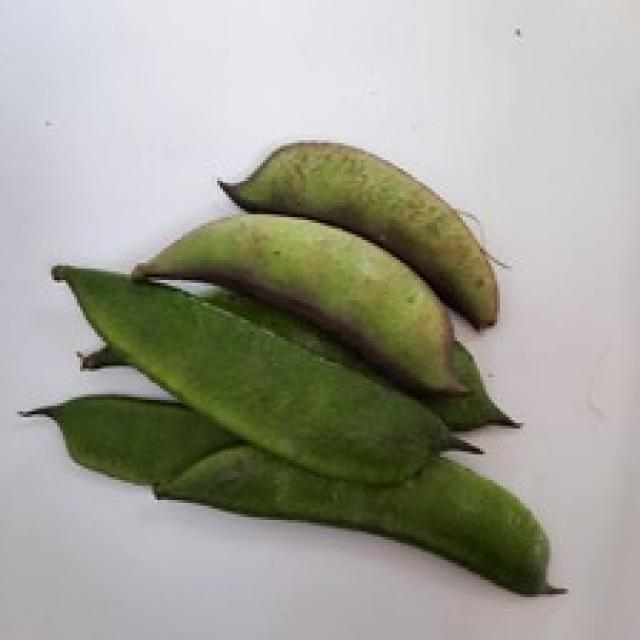Bean: (48, 260, 483, 486), (128, 209, 468, 397), (214, 137, 503, 329)
